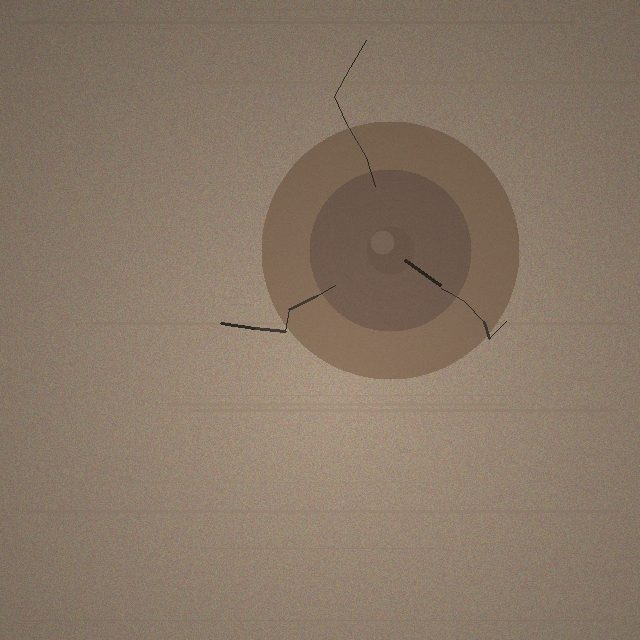crack: (261, 121, 519, 379)
